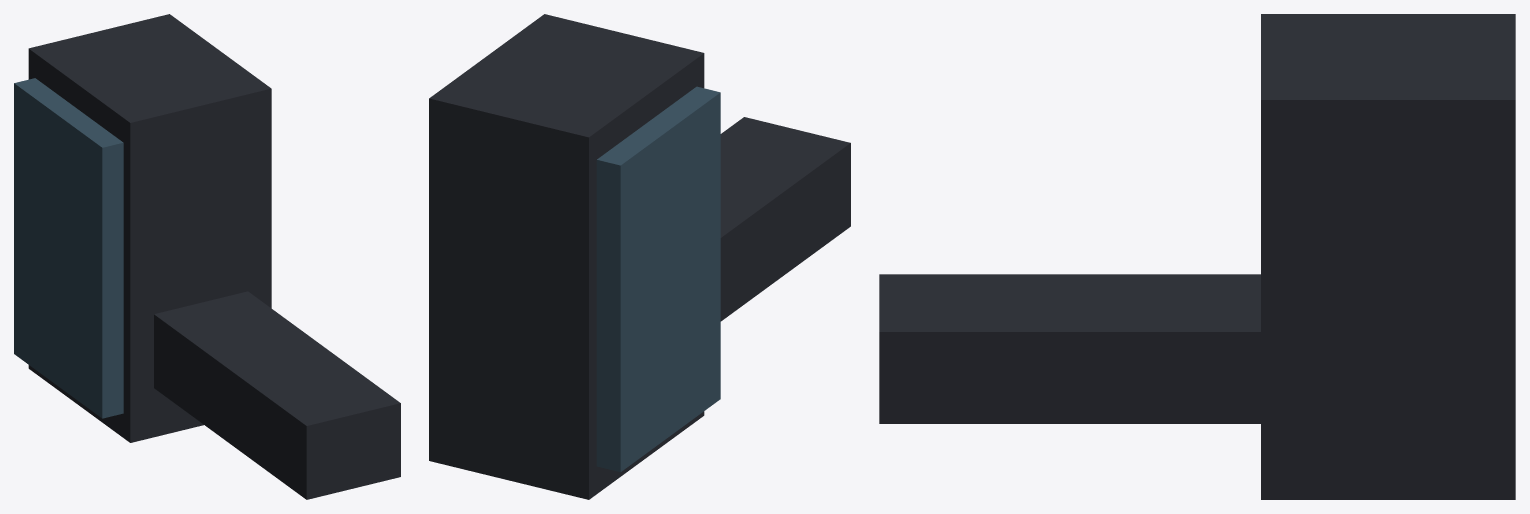
File: mirror_l.obj
3 views of the same model, side by side, from view 1: azimuth 30°, elevation 25°; view 2: azimuth 150°, elevation 25°; view 3: azimuth 270°, elevation 25° (orthographic). The views are drawn at different scales.
Parts seen in each view (by area): view 1: Cube; view 2: Cube; view 3: Cube.
Boxes of the visible parts, x1,y1,x2,y2 form: Cube: (14, 14, 400, 499); Cube: (429, 14, 850, 499); Cube: (879, 14, 1515, 499).
Size of the model in its own units: 0.069 by 0.13 by 0.1875.
